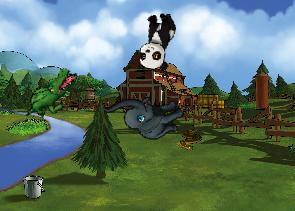crocodile: (23, 59, 79, 128)
elephant: (101, 74, 189, 156)
panda: (136, 9, 177, 73)
